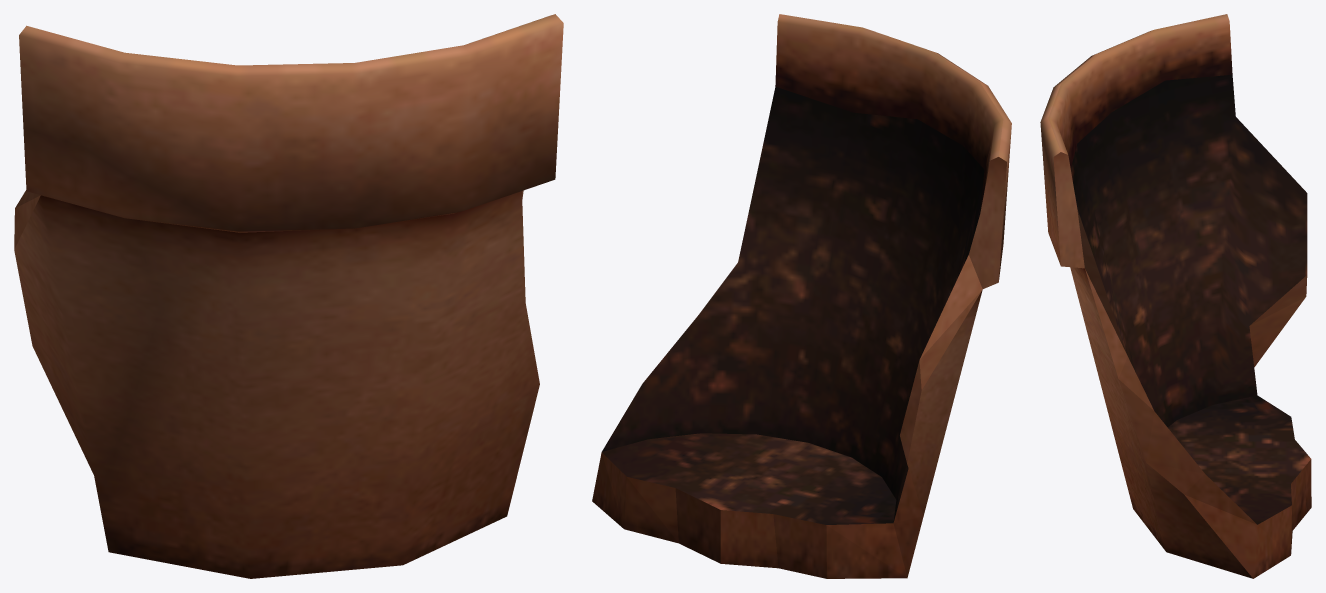
The model's file is plant01_p5.glb.
3 renders of one model, left to right at view 1: azimuth 30°, elevation 25°; view 2: azimuth 150°, elevation 25°; view 3: azimuth 270°, elevation 25°, orthographic. The views are drawn at different scales.
Visible parts, largest first — view 1: plant01_p5; view 2: plant01_p5; view 3: plant01_p5.
Boxes of the visible parts, bbox=[...] form: plant01_p5: bbox=[14, 14, 563, 578]; plant01_p5: bbox=[592, 14, 1011, 578]; plant01_p5: bbox=[1040, 14, 1311, 578].
Bounding box in the file's own units: 0.2214 × 0.2277 × 0.1431.
Materials: 2 (2 with a texture image).
